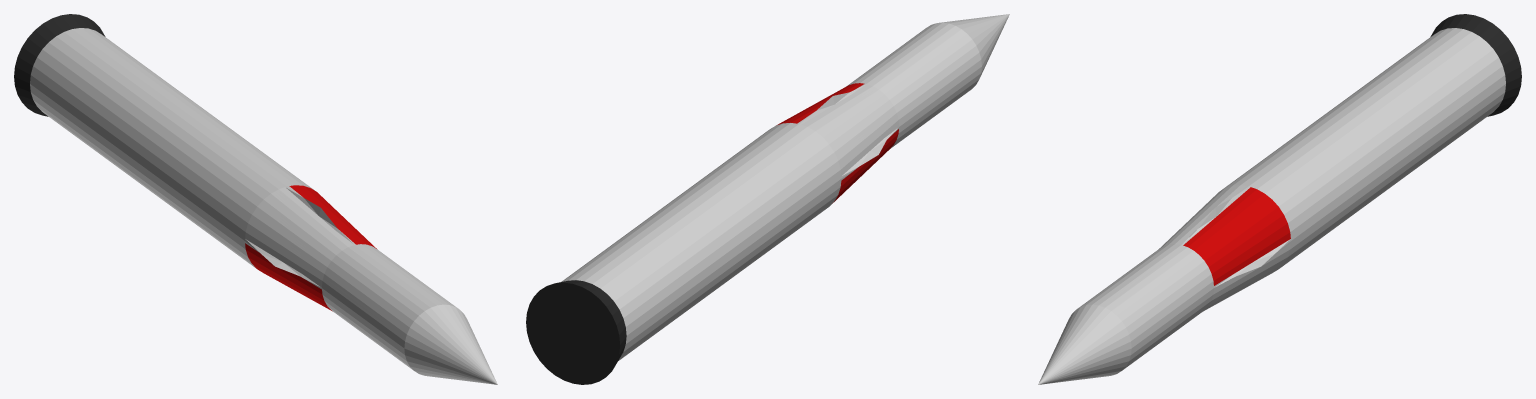
Rendered from Interceptor_ARROW.obj.
3 views of the same model, side by side, from view 1: azimuth 30°, elevation 25°; view 2: azimuth 150°, elevation 25°; view 3: azimuth 330°, elevation 25° (orthographic).
Parts seen in each view (by area): view 1: ARROW; view 2: ARROW; view 3: ARROW.
Boxes of the visible parts, x1,y1,x2,y2 form: ARROW: (14,14,497,384); ARROW: (526,14,1009,384); ARROW: (1038,14,1521,384).
Size of the model in its own units: 0.8898 by 0.9011 by 7.15.
